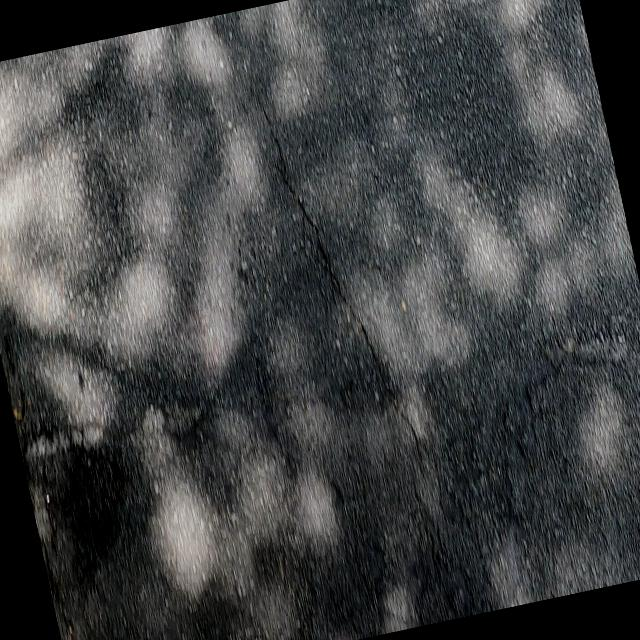Retak-Memanjang: (254, 99, 401, 408)
